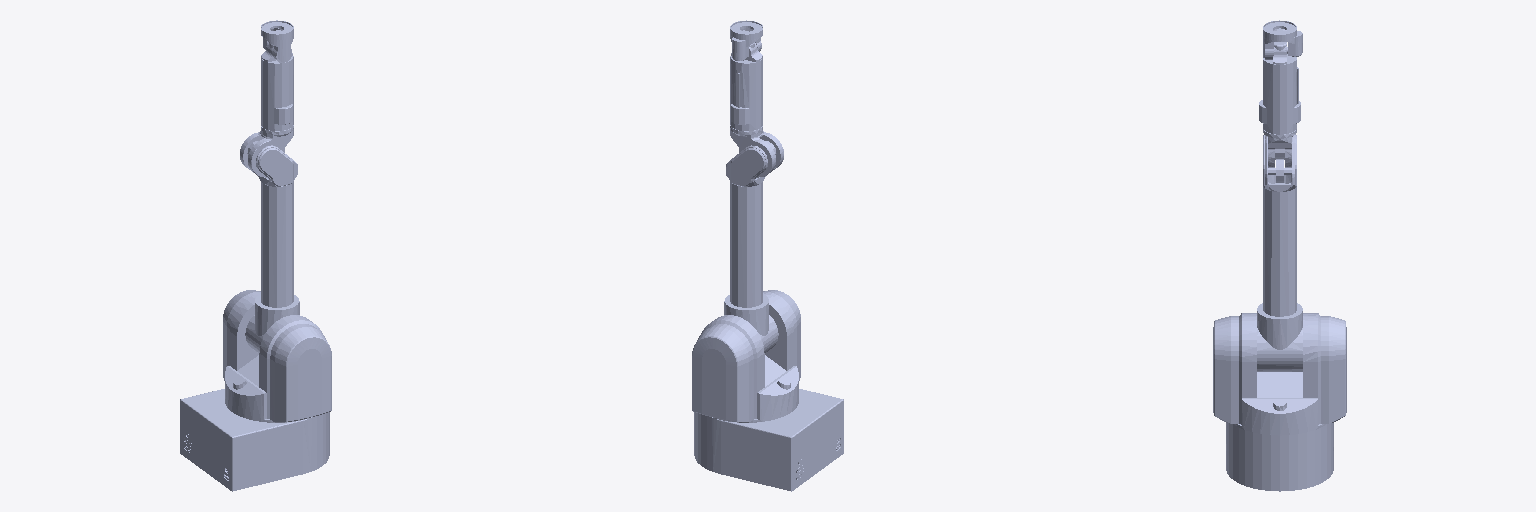
robot.urdf — wam:
<?xml version="1.0" ?>
<!-- =================================================================================== -->
<!-- |    This document was autogenerated by xacro from [local-path]/dev/catkin_workspaces/dev_libherb/src/herb_description/robots/wam_standalone.urdf.xacro | -->
<!-- |    EDITING THIS FILE BY HAND IS NOT RECOMMENDED                                 | -->
<!-- =================================================================================== -->
<robot name="wam" xmlns:xacro="http://www.ros.org/wiki/xacro">
  <link name="world"/>
  <joint name="/j0" type="fixed">
    <parent link="world"/>
    <child link="/wam_base"/>
    <origin xyz="0 0 0" rpy="0 0 0" />
  </joint>
  <link name="/wam_base">
    <visual>
      <origin rpy="0 0 0" xyz="0 0 0"/>
      <geometry>
        <mesh filename="package://herb_description/meshes/wam/wam_base.dae"/>
      </geometry>
      <material name="">
        <color rgba="0.792156862745098 0.819607843137255 0.933333333333333 1"/>
      </material>
    </visual>
    <inertial>
      <origin rpy="0 0 0" xyz="0.21556578 0.26189039 0.34533511"/>
      <mass value="9.97059584"/>
      <inertia ixx="0.10916849" ixy="0.00640270" ixz="0.02557874" iyx="0.00000000" iyy="0.18294303" iyz="0.00161433" izx="0.00000000" izy="0.00000000" izz="0.11760385"/>
    </inertial>
    <collision>
      <geometry>
        <mesh filename="package://herb_description/meshes/wam/wam_base_collision.STL"/>
      </geometry>
    </collision>
  </link>
  <link name="/wam1">
    <visual>
      <origin rpy="0 0 0" xyz="0 0 0"/>
      <geometry>
        <mesh filename="package://herb_description/meshes/wam/wam1.dae"/>
      </geometry>
      <material name="">
        <color rgba="0.792156862745098 0.819607843137255 0.933333333333333 1"/>
      </material>
    </visual>
    <inertial>
      <origin rpy="-1.570796 0 0" xyz="-0.004434 -0.000665 -0.121890"/>
      <mass value="10.76768767"/>
      <inertia ixx="0.13488033" ixy="-0.00213041" ixz="-0.00012485" iyx="0.00000000" iyy="0.11328369" iyz="0.00068555" izx="0.00000000" izy="0.00000000" izz="0.09046330"/>
    </inertial>
    <collision>
      <geometry>
        <mesh filename="package://herb_description/meshes/wam/wam1_collision.STL"/>
      </geometry>
    </collision>
  </link>
  <joint name="/j1" type="revolute">
    <origin rpy="-1.1127E-16 0 0" xyz="0.22 0.14 0.346"/>
    <parent link="/wam_base"/>
    <child link="/wam1"/>
    <axis xyz="0 0 1"/>
    <!-- HERB's J1 joints are modified to have a +180 degree offset. -->
    <limit effort="1.8" lower="0.54159265359" upper="5.74159265359" velocity="0.75"/>
  </joint>
  <link name="/wam2">
    <visual>
      <origin rpy="0 0 0" xyz="0 0 0"/>
      <geometry>
        <mesh filename="package://herb_description/meshes/wam/wam2.dae"/>
      </geometry>
      <material name="">
        <color rgba="0.792156862745098 0.819607843137255 0.933333333333333 1"/>
      </material>
    </visual>
    <inertial>
      <origin rpy="1.570796 0 0" xyz="-0.002370 -0.015421 0.031056"/>
      <mass value="3.87493756"/>
      <inertia ixx="0.02140958" ixy="0.00027172" ixz="0.00002461" iyx="0.00000000" iyy="0.01377875" iyz="-0.00181920" izx="0.00000000" izy="0.00000000" izz="0.01558906"/>
    </inertial>
    <collision>
      <geometry>
        <mesh filename="package://herb_description/meshes/wam/wam2_collision.STL"/>
      </geometry>
    </collision>
  </link>
  <joint name="/j2" type="revolute">
    <origin rpy="-1.5708 -4.0281E-16 -3.9443E-31" xyz="0 0 0"/>
    <parent link="/wam1"/>
    <child link="/wam2"/>
    <axis xyz="0 0 1"/>
    <limit effort="1.8" lower="-2.00" upper="2.00" velocity="0.75"/>
  </joint>
  <link name="/wam3">
    <visual>
      <origin rpy="0 0 0" xyz="0 0 0"/>
      <geometry>
        <mesh filename="package://herb_description/meshes/wam/wam3.dae"/>
      </geometry>
      <material name="">
        <color rgba="0.792156862745098 0.819607843137255 0.933333333333333 1"/>
      </material>
    </visual>
    <inertial>
      <origin rpy="-1.570796 0 0" xyz="0.006741 0.000033 0.342492"/>
      <mass value="1.80228141"/>
      <inertia ixx="0.05911077" ixy="-0.00249612" ixz="0.00000738" iyx="0.00000000" iyy="0.00324550" iyz="-0.00001767" izx="0.00000000" izy="0.00000000" izz="0.05927043"/>
    </inertial>
    <collision>
      <geometry>
        <mesh filename="package://herb_description/meshes/wam/wam3_collision.STL"/>
      </geometry>
    </collision>
  </link>
  <joint name="/j3" type="revolute">
    <origin rpy="1.5708 -3.9443E-31 4.0281E-16" xyz="0 0 0"/>
    <parent link="/wam2"/>
    <child link="/wam3"/>
    <axis xyz="0 0 1"/>
    <limit effort="1.8" lower="-2.80" upper="2.80" velocity="2.0"/>
  </joint>
  <link name="/wam4">
    <visual>
      <origin rpy="0 0 0" xyz="0 0 0"/>
      <geometry>
        <mesh filename="package://herb_description/meshes/wam/wam4.dae"/>
      </geometry>
      <material name="">
        <color rgba="0.792156862745098 0.819607843137255 0.933333333333333 1"/>
      </material>
    </visual>
    <inertial>
      <origin rpy="1.570796 0 0" xyz="-0.040015 -0.132717 -0.000229"/>
      <mass value="2.40016804"/>
      <inertia ixx="0.01491672" ixy="0.00001741" ixz="-0.00150604" iyx="0.00000000" iyy="0.01482922" iyz="-0.00002109" izx="0.00000000" izy="0.00000000" izz="0.00294463"/>
    </inertial>
    <collision>
      <geometry>
        <mesh filename="package://herb_description/meshes/wam/wam4_collision.STL"/>
      </geometry>
    </collision>
  </link>
  <joint name="/j4" type="revolute">
    <origin rpy="-1.5708 0 0" xyz="0.045 0 0.55"/>
    <parent link="/wam3"/>
    <child link="/wam4"/>
    <axis xyz="0 0 1"/>
    <limit effort="1.6" lower="-0.90" upper="3.10" velocity="2.0"/>
  </joint>
  <link name="/wam5">
    <visual>
      <origin rpy="0 0 0" xyz="0 0 0"/>
      <geometry>
        <mesh filename="package://herb_description/meshes/wam/wam5.dae"/>
      </geometry>
      <material name="">
        <color rgba="0.792156862745098 0.819607843137255 0.933333333333333 1"/>
      </material>
    </visual>
    <inertial>
      <origin rpy="-1.570796 0 0" xyz="0.000089 0.004358 0.294888"/>
      <mass value="0.12376019"/>
      <inertia ixx="0.00005029" ixy="0.00000020" ixz="-0.00000005" iyx="0.00000000" iyy="0.00007582" iyz="-0.00000359" izx="0.00000000" izy="0.00000000" izz="0.00006270"/>
    </inertial>
    <collision>
      <geometry>
        <mesh filename="package://herb_description/meshes/wam/wam5_collision.STL"/>
      </geometry>
    </collision>
  </link>
  <joint name="/j5" type="revolute">
    <origin rpy="1.5708 0 0" xyz="-0.045 0 0"/>
    <parent link="/wam4"/>
    <child link="/wam5"/>
    <axis xyz="0 0 1"/>
    <limit effort="0.6" lower="-4.76" upper="1.24" velocity="2.5"/>
  </joint>
  <link name="/wam6">
    <visual>
      <origin rpy="0 0 0" xyz="0 0 0"/>
      <geometry>
        <mesh filename="package://herb_description/meshes/wam/wam6.dae"/>
      </geometry>
      <material name="">
        <color rgba="0.792156862745098 0.819607843137255 0.933333333333333 1"/>
      </material>
    </visual>
    <inertial>
      <origin rpy="1.570796 0 0" xyz="-0.000123 -0.024683 -0.017032"/>
      <mass value="0.41797364"/>
      <inertia ixx="0.00055516" ixy="0.00000061" ixz="-0.00000074" iyx="0.00000000" iyy="0.00024367" iyz="-0.00004590" izx="0.00000000" izy="0.00000000" izz="0.00045358"/>
    </inertial>
    <collision>
      <geometry>
        <mesh filename="package://herb_description/meshes/wam/wam6_collision.STL"/>
      </geometry>
    </collision>
  </link>
  <joint name="/j6" type="revolute">
    <origin rpy="-1.5708 0 0" xyz="0 0 0.3"/>
    <parent link="/wam5"/>
    <child link="/wam6"/>
    <axis xyz="0 0 1"/>
    <limit effort="0.6" lower="-1.60" upper="1.60" velocity="2.5"/>
  </joint>
  <link name="/wam7">
    <visual>
      <origin rpy="0 0 0" xyz="0 0 0"/>
      <geometry>
        <mesh filename="package://herb_description/meshes/wam/wam7.dae"/>
      </geometry>
      <material name="">
        <color rgba="0.792156862745098 0.819607843137255 0.933333333333333 1"/>
      </material>
    </visual>
    <inertial>
      <origin rpy="0 0 0" xyz="-0.000080 0.000163 0.056764"/>
      <mass value="0.06864753"/>
      <inertia ixx="0.00003773" ixy="-0.00000019" ixz="0.00000000" iyx="0.00000000" iyy="0.00003806" iyz="0.00000000" izx="0.00000000" izy="0.00000000" izz="0.00007408"/>
    </inertial>
    <collision>
      <geometry>
        <mesh filename="package://herb_description/meshes/wam/wam7_collision.STL"/>
      </geometry>
    </collision>
  </link>
  <joint name="/j7" type="revolute">
    <origin rpy="1.5708 0 0" xyz="0 0 0"/>
    <parent link="/wam6"/>
    <child link="/wam7"/>
    <axis xyz="0 0 1"/>
    <limit effort="0.174" lower="-3.00" upper="3.00" velocity="2.5"/>
  </joint>
</robot>

--- Render facts (derived) ---
The picture shows the robot from 3 angles, left to right: view 1: azimuth 30°, elevation 25°; view 2: azimuth 150°, elevation 25°; view 3: azimuth 270°, elevation 25°; orthographic projection.
Robot: wam — 9 links, 8 joints (7 revolute, 1 fixed); root link world; default pose: joints at zero except 1 at the middle of their limits (/j1 = 3.14).
Visible links, largest first — view 1: /wam1, /wam_base, /wam3, /wam4, /wam2; view 2: /wam1, /wam_base, /wam3, /wam4, /wam2; view 3: /wam1, /wam_base, /wam3, /wam4, /wam2, /wam6, /wam7.
Boxes of the visible links, x1,y1,x2,y2 form: /wam1: [223, 290, 331, 422]; /wam_base: [180, 389, 329, 491]; /wam3: [256, 145, 297, 307]; /wam4: [240, 56, 293, 176]; /wam2: [245, 294, 299, 352]; /wam1: [692, 290, 800, 422]; /wam_base: [694, 389, 843, 491]; /wam3: [726, 145, 767, 307]; /wam4: [730, 56, 783, 176]; /wam2: [724, 294, 778, 352]; /wam1: [1213, 313, 1346, 435]; /wam_base: [1226, 423, 1333, 491]; /wam3: [1263, 135, 1296, 316]; /wam4: [1259, 57, 1300, 167]; /wam2: [1257, 303, 1302, 371]; /wam6: [1263, 28, 1302, 59]; /wam7: [1263, 20, 1296, 40].
Size in the robot's own frame: 0.36 by 0.3476 by 1.26 metres.
8 mesh visuals loaded from 8 distinct referenced files (8 Collada DAE).